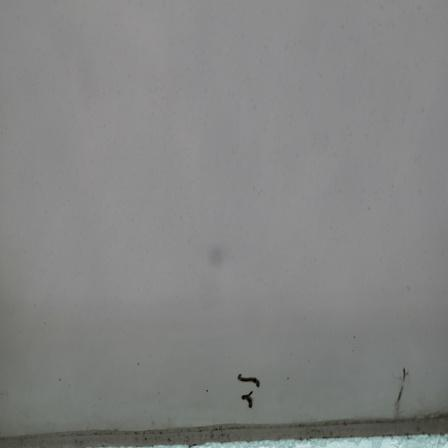Jentik-Nyamuk: (234, 368, 262, 388), (239, 391, 256, 410)
